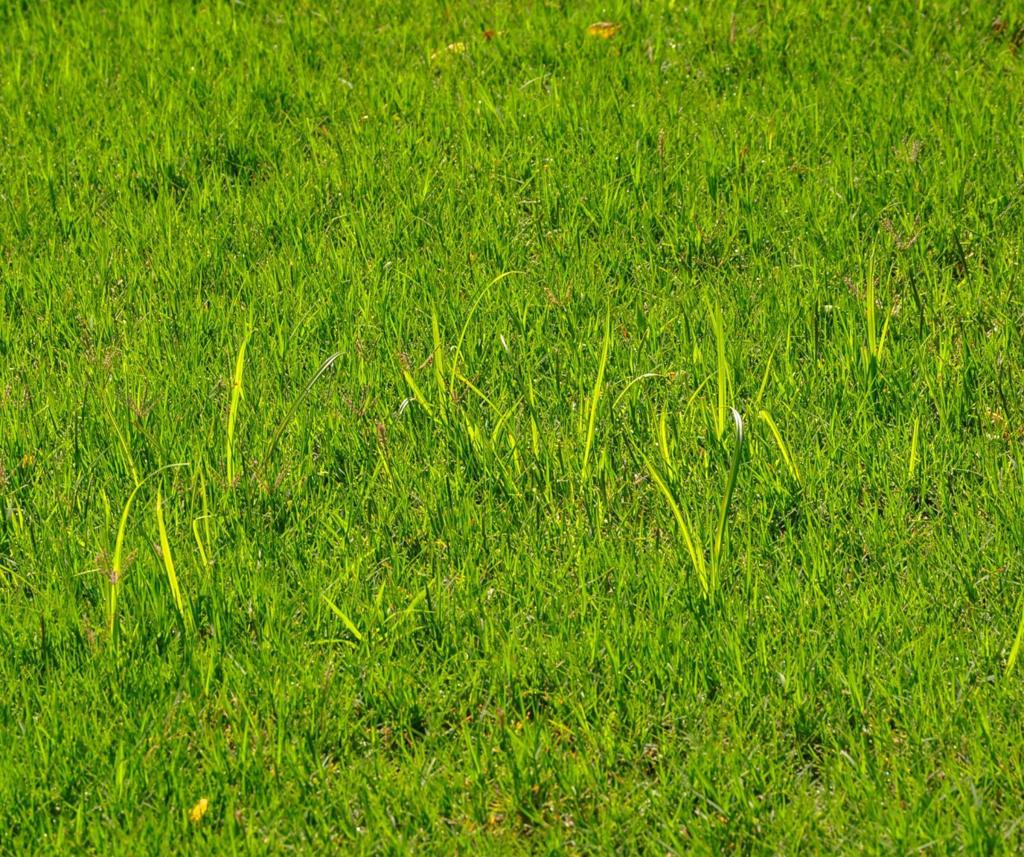crabgrass: (383, 332, 611, 517), (84, 518, 271, 693), (654, 495, 781, 634), (829, 303, 918, 425)
